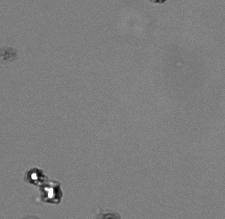Living Cell: (41, 184, 62, 203), (27, 169, 42, 183)
